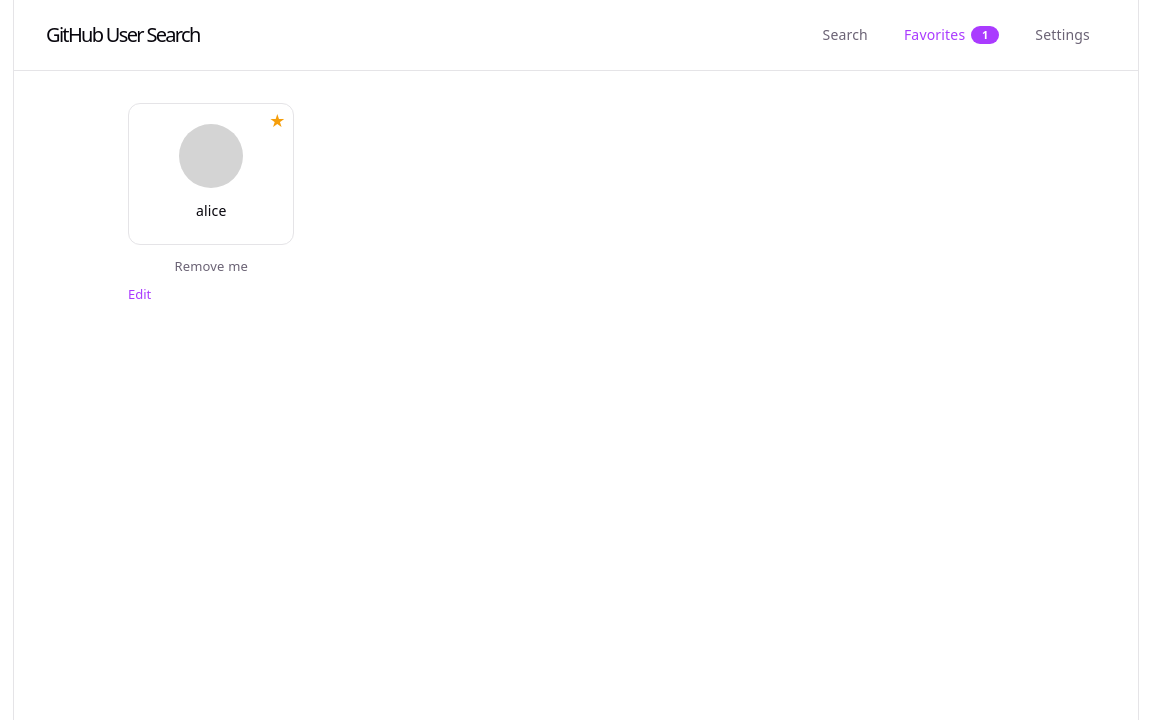
Test: favorites page notes › removes a note when saving an empty value
Click the button with aria-label "Edit note for alice".
click(140, 294)  # box [128,281,151,308]
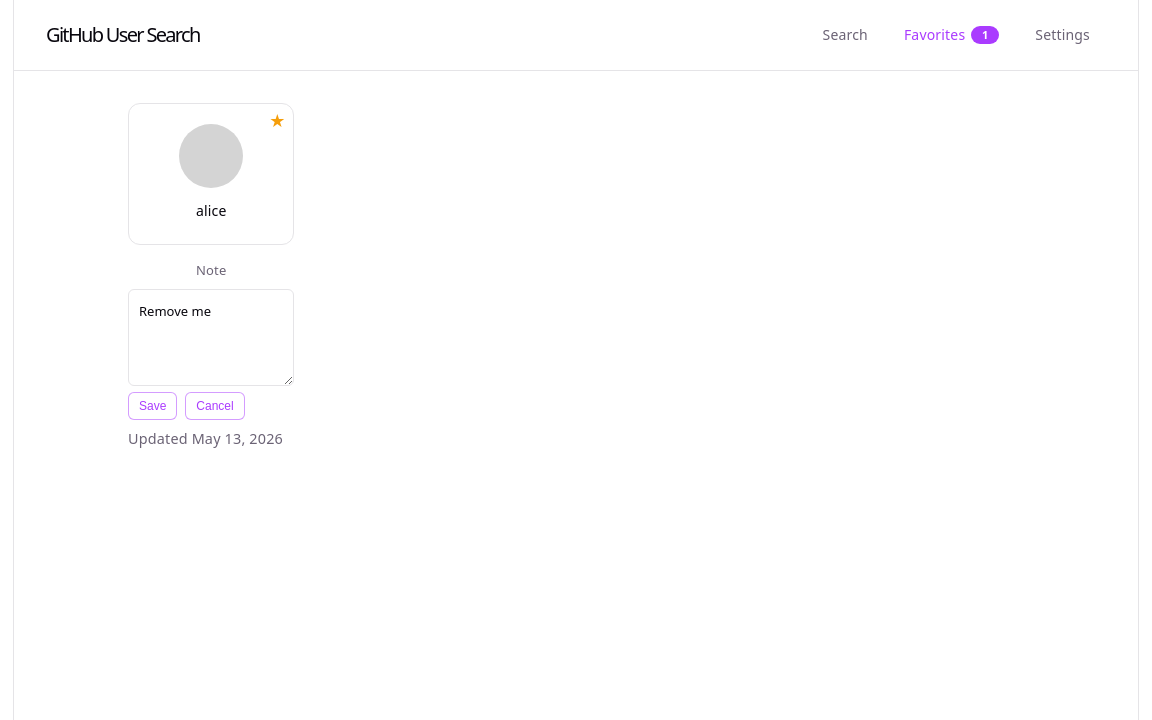
Clear the text box named "Note for alice" at (211, 337), box [128,289,294,386]
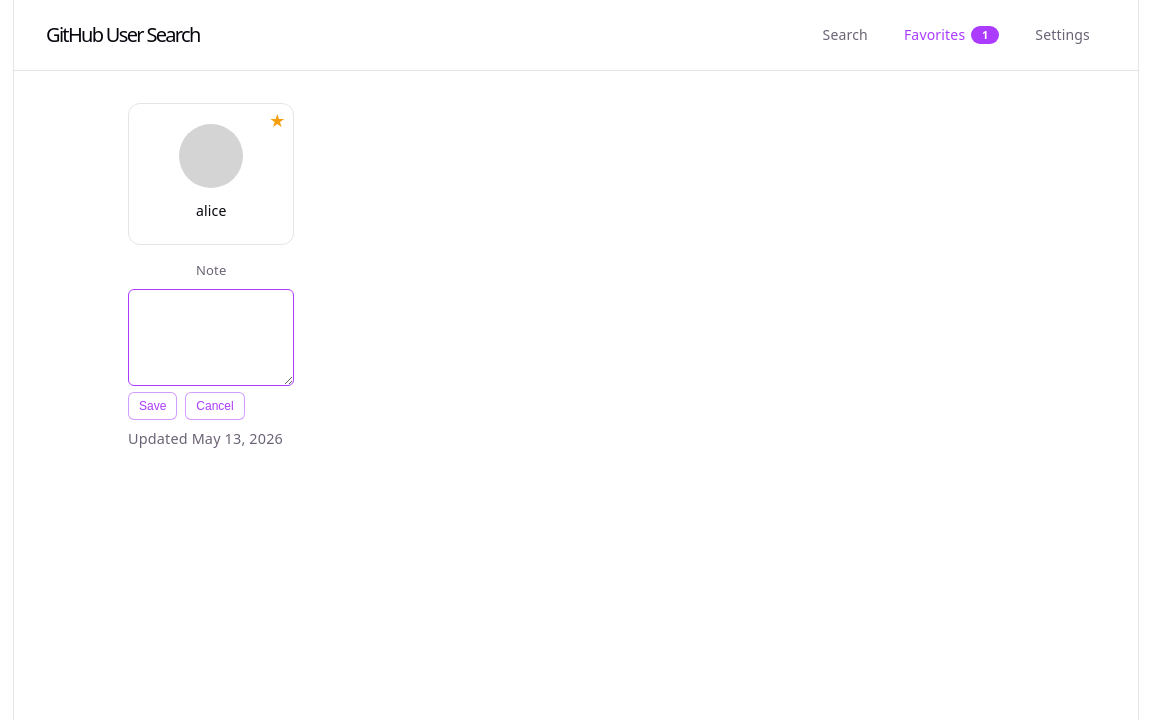
Click the button with aria-label "Save note for alice".
click(153, 406)  # box [128,392,177,420]
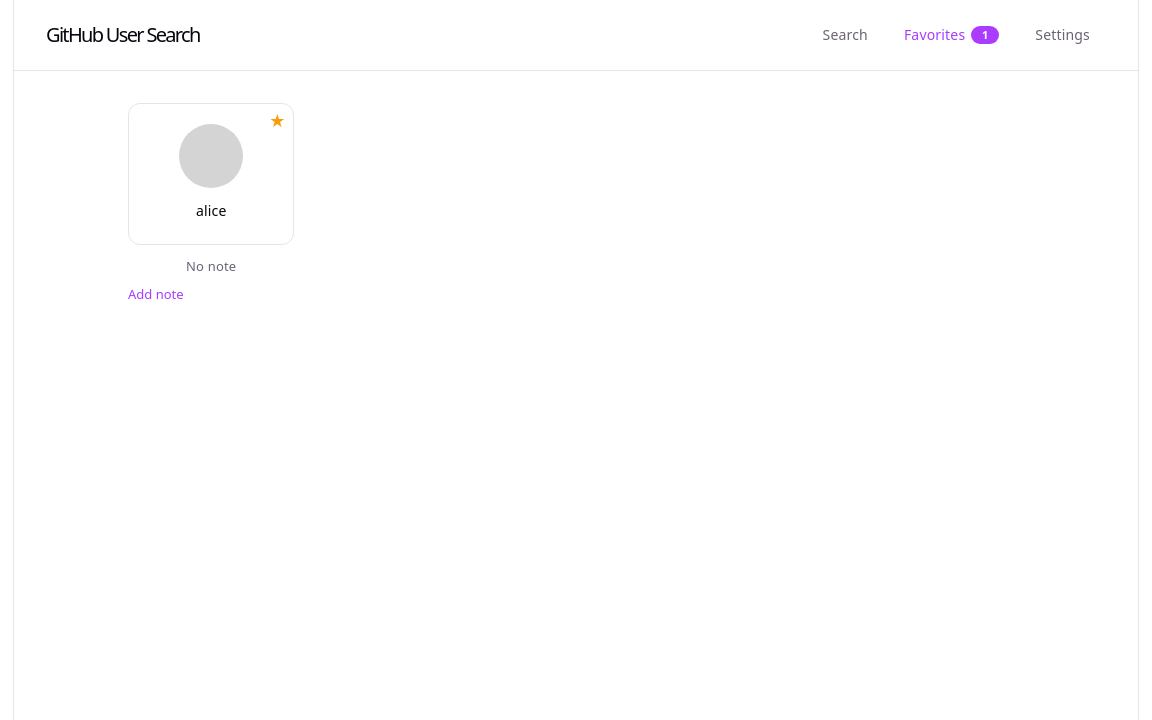
Result: the button with aria-label "Add note for alice" is shown at [128,281,184,308]
